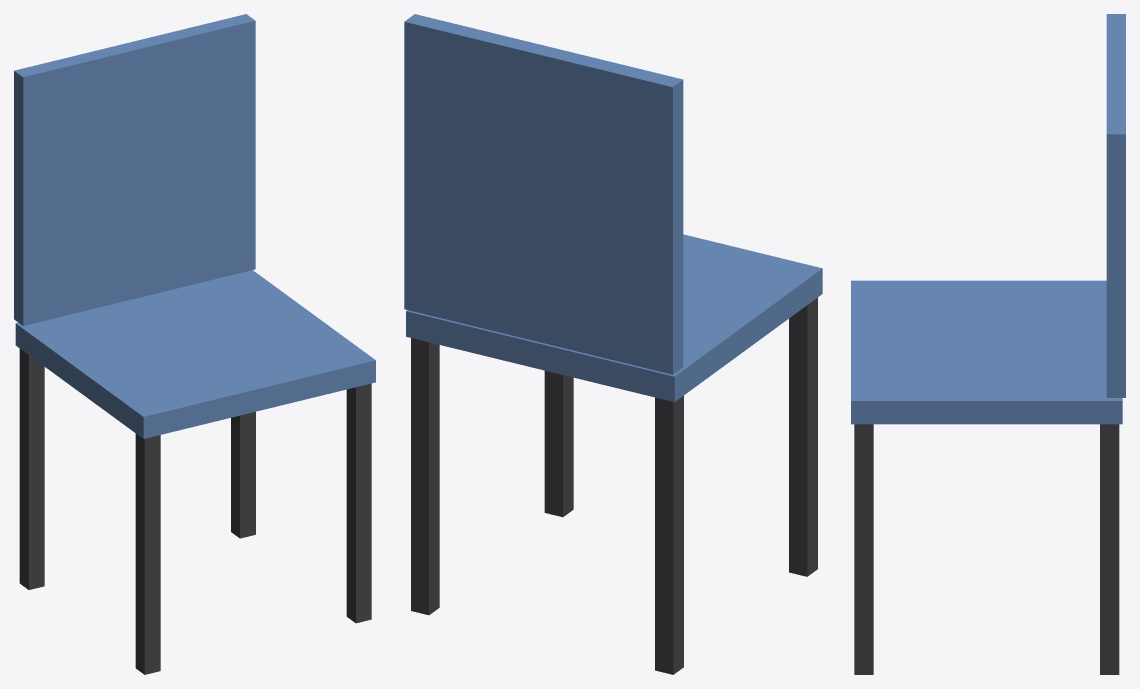
File: prop.chair.glb
The picture shows the model from 3 angles, left to right: view 1: azimuth 30°, elevation 25°; view 2: azimuth 150°, elevation 25°; view 3: azimuth 270°, elevation 25°; orthographic projection. The views are drawn at different scales.
Visible parts, largest first — view 1: prop.chair; view 2: prop.chair; view 3: prop.chair.
Part boxes in pixels (left/top/right/bottom): prop.chair: left=14, top=14, right=375, bottom=674; prop.chair: left=404, top=14, right=822, bottom=674; prop.chair: left=851, top=14, right=1125, bottom=674.
Bounding box in the file's own units: 0.44 × 0.925 × 0.425.
